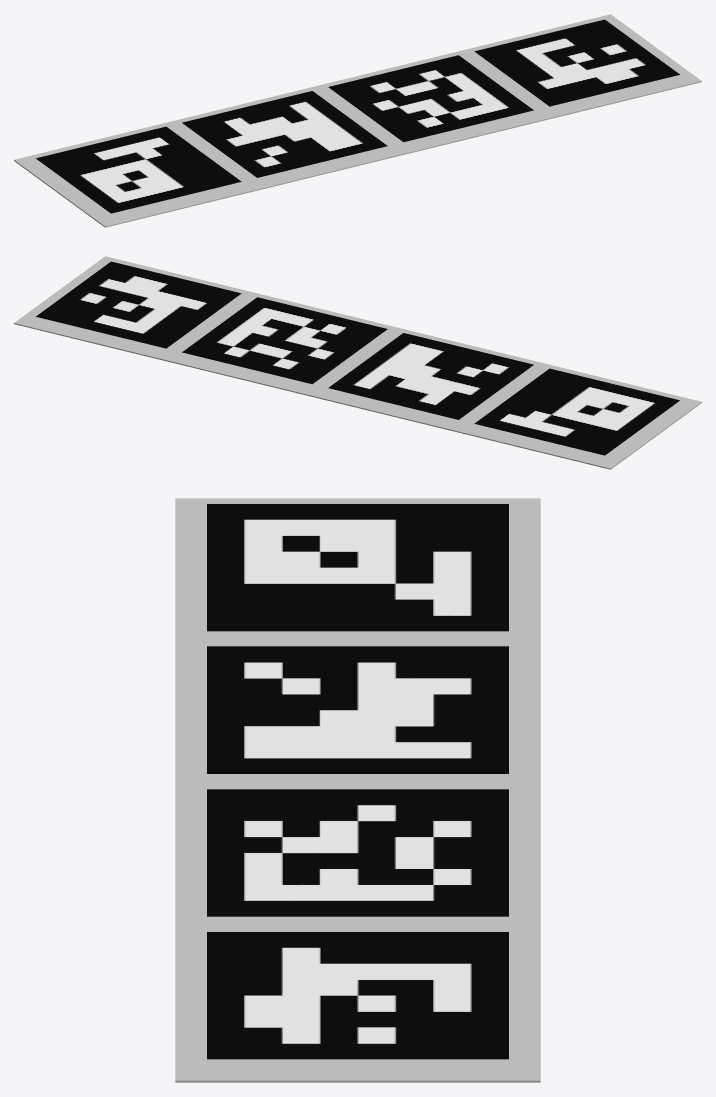
File: artag_9_10_11_12.dae
3 renders of one model, top to bottom at view 1: azimuth 30°, elevation 25°; view 2: azimuth 150°, elevation 25°; view 3: azimuth 270°, elevation 25°, orthographic. The views are drawn at different scales.
Parts seen in each view (by area): view 1: _-10-11-12_1x4, Cube; view 2: _-10-11-12_1x4, Cube; view 3: _-10-11-12_1x4, Cube.
Part boxes in pixels (box(x1,y1,x2,y2)): _-10-11-12_1x4: box(36, 19, 679, 213); Cube: box(14, 14, 701, 227); _-10-11-12_1x4: box(36, 261, 679, 455); Cube: box(14, 256, 701, 469); _-10-11-12_1x4: box(207, 504, 508, 1059); Cube: box(175, 498, 540, 1082).
Bounding box in the file's own units: 0.283 × 0.075 × 0.00225.
Materials: 2 (1 with a texture image).
